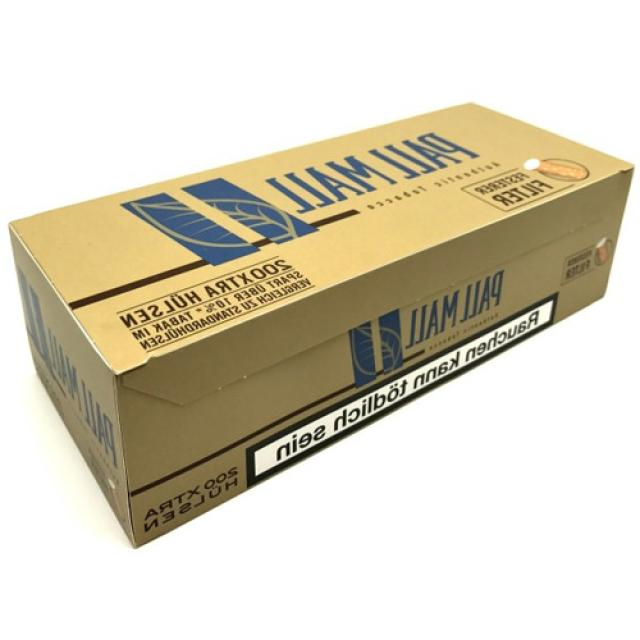pallmall: (0, 97, 633, 558)
